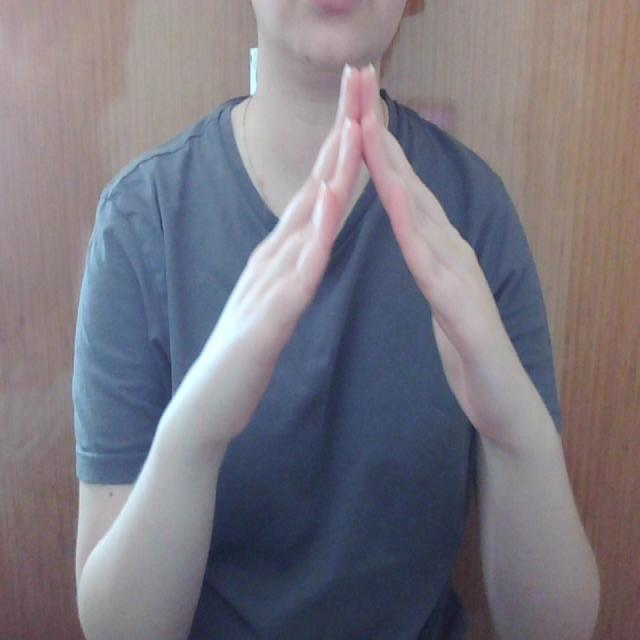Ev: (193, 56, 528, 439)
